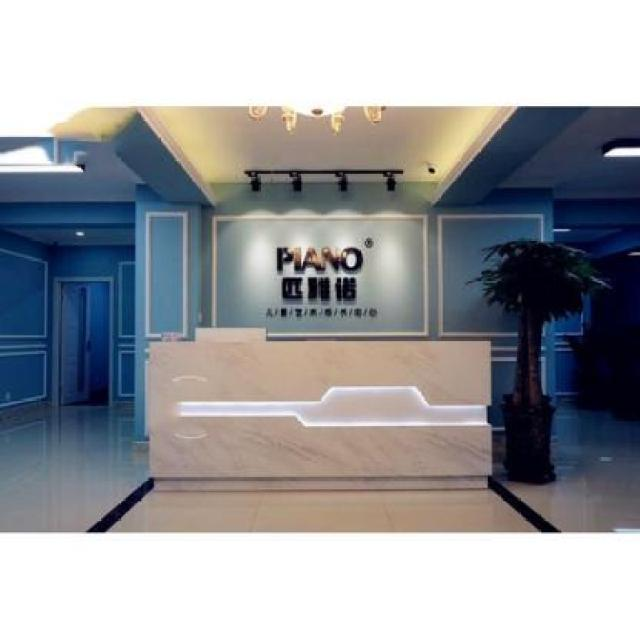frontdesk: (132, 320, 500, 500)
